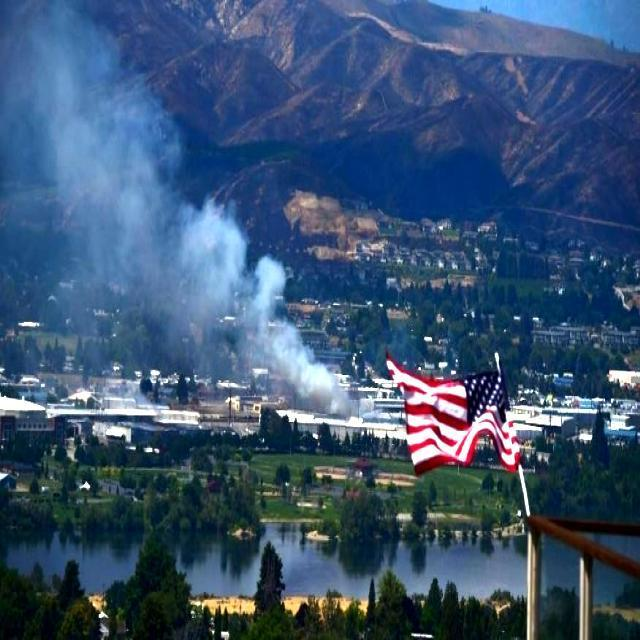Smoke: (0, 12, 225, 406), (176, 242, 336, 414)
